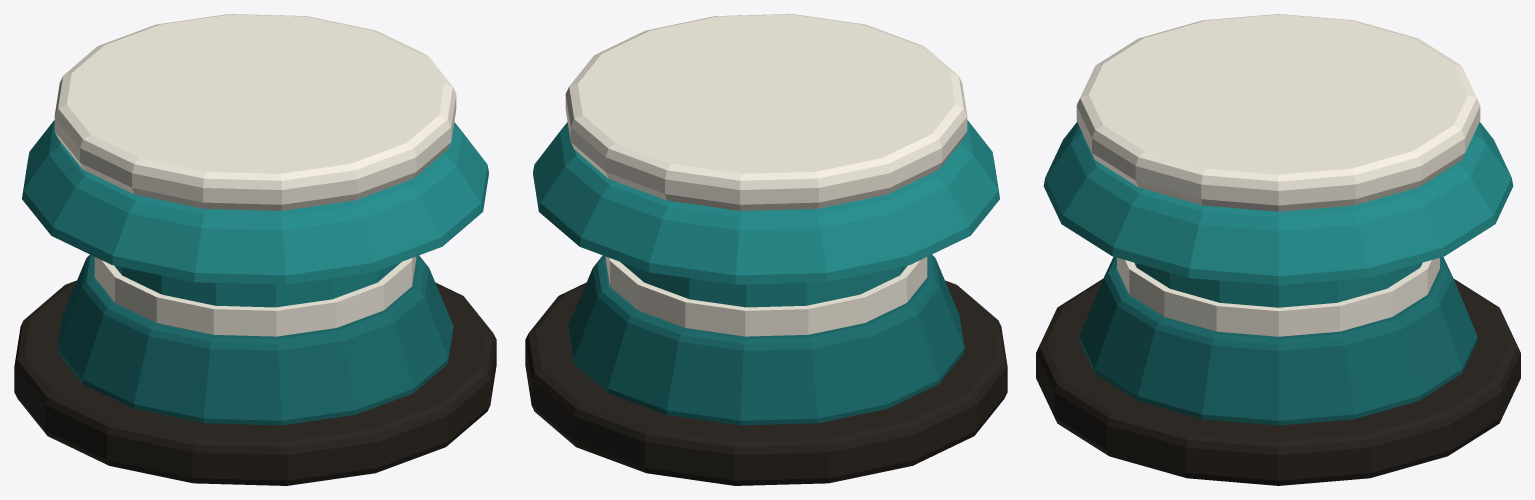
Rendered from round1.glb.
3 renders of one model, left to right at view 1: azimuth 30°, elevation 25°; view 2: azimuth 150°, elevation 25°; view 3: azimuth 270°, elevation 25°, orthographic.
Parts seen in each view (by area): view 1: ring, skirt, cap, base, band, body; view 2: ring, skirt, cap, base, band, body; view 3: ring, cap, skirt, base, band, body.
Part boxes in pixels (x1,y1,x2,y2): ring: (54,14,456,210); skirt: (57,254,453,425); cap: (22,120,488,284); base: (14,280,496,485); band: (94,256,416,336); body: (114,262,401,307); ring: (565,14,967,210); skirt: (568,254,964,425); cap: (533,120,999,284); base: (525,280,1007,485); band: (605,256,927,336); body: (620,262,907,307); ring: (1076,14,1480,211); cap: (1043,122,1513,285); skirt: (1079,257,1477,425); base: (1036,279,1520,485); band: (1117,258,1439,336); body: (1134,262,1422,307).
Size of what is drawn, in the model's own units: 1.2 by 0.8 by 1.2.
